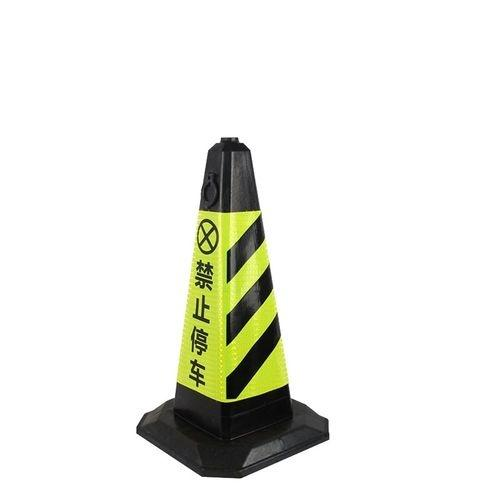cone_barrel: (150, 133, 315, 451)
